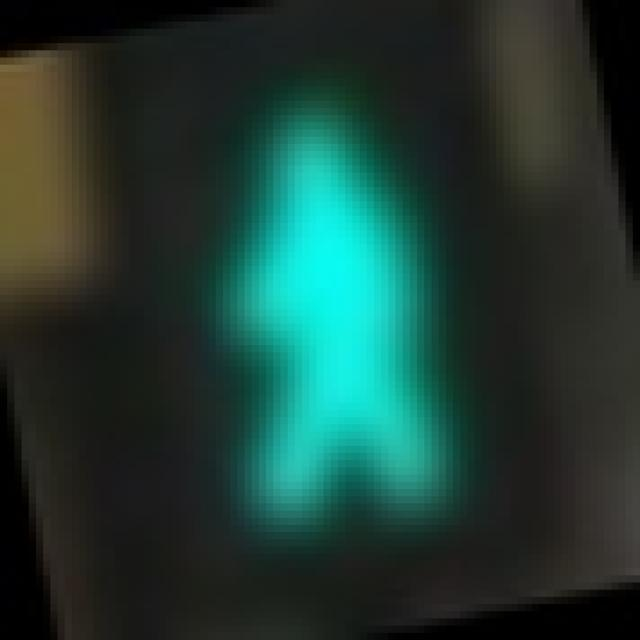geen-crossing: (172, 79, 460, 547)
